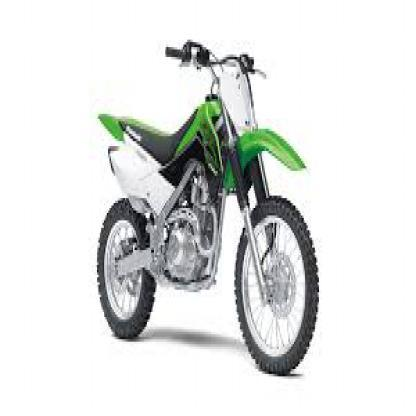Motorcycle: (84, 30, 321, 383)
